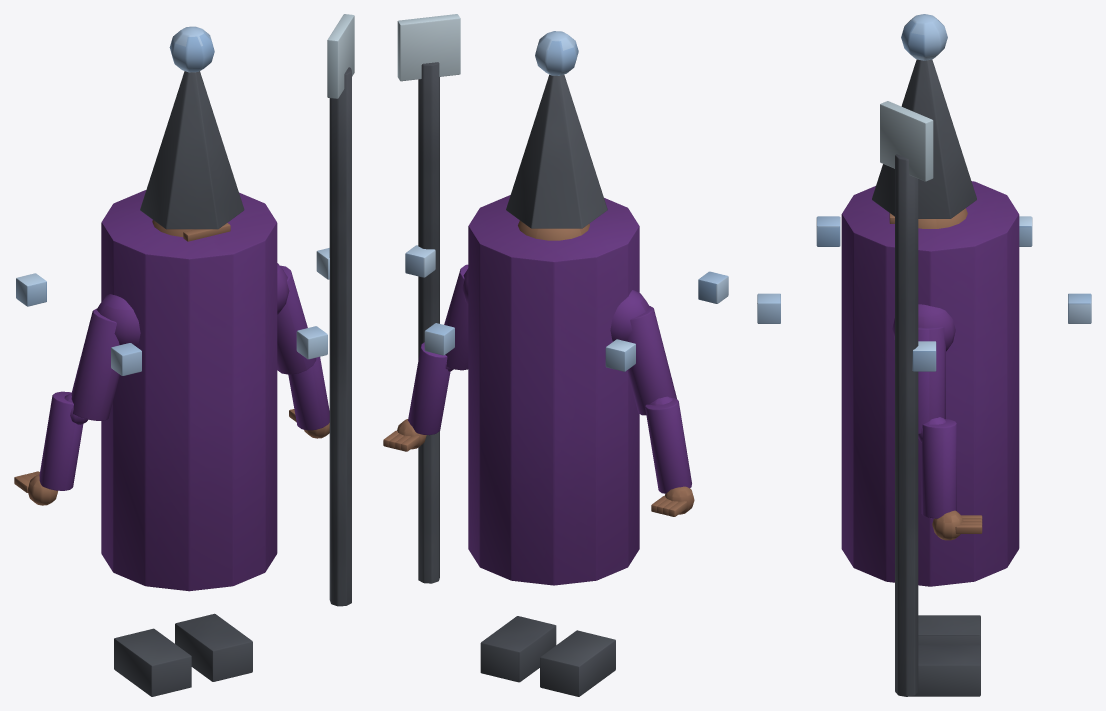
The model's file is unit_veiled_rune_caster.fbx.
3 renders of one model, left to right at view 1: azimuth 30°, elevation 25°; view 2: azimuth 150°, elevation 25°; view 3: azimuth 270°, elevation 25°, orthographic. The views are drawn at different scales.
Visible parts, largest first — view 1: unit_veiled_rune_caster; view 2: unit_veiled_rune_caster; view 3: unit_veiled_rune_caster.
Boxes of the visible parts, <box> form: unit_veiled_rune_caster: <box>14,14,354,696</box>; unit_veiled_rune_caster: <box>383,14,728,696</box>; unit_veiled_rune_caster: <box>757,14,1091,696</box>.
Bounding box in the file's own units: 1.23 × 2.44 × 1.13.
